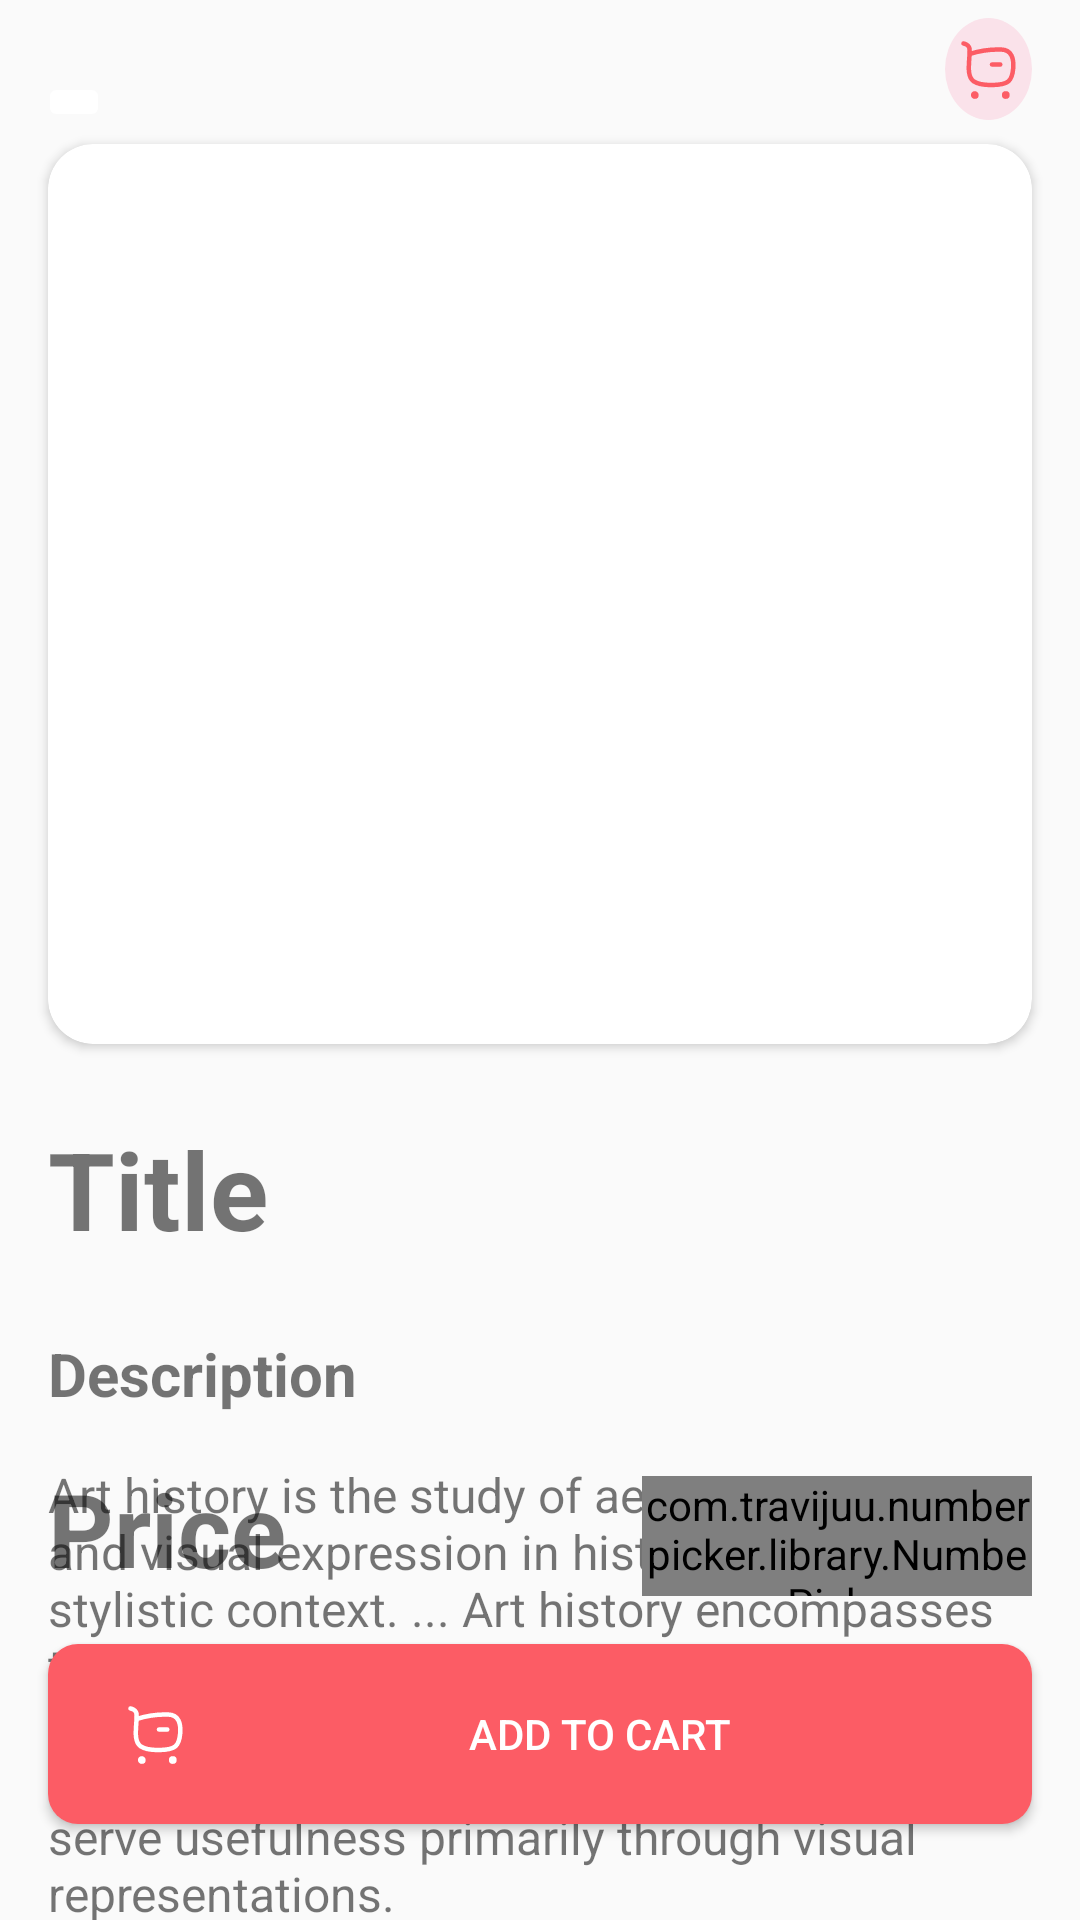

Locate icon controls on the screen. Image size 1080w x 1920h, boxes as (x1,y1,x2,y2).
cart: (945,18,1032,120)
